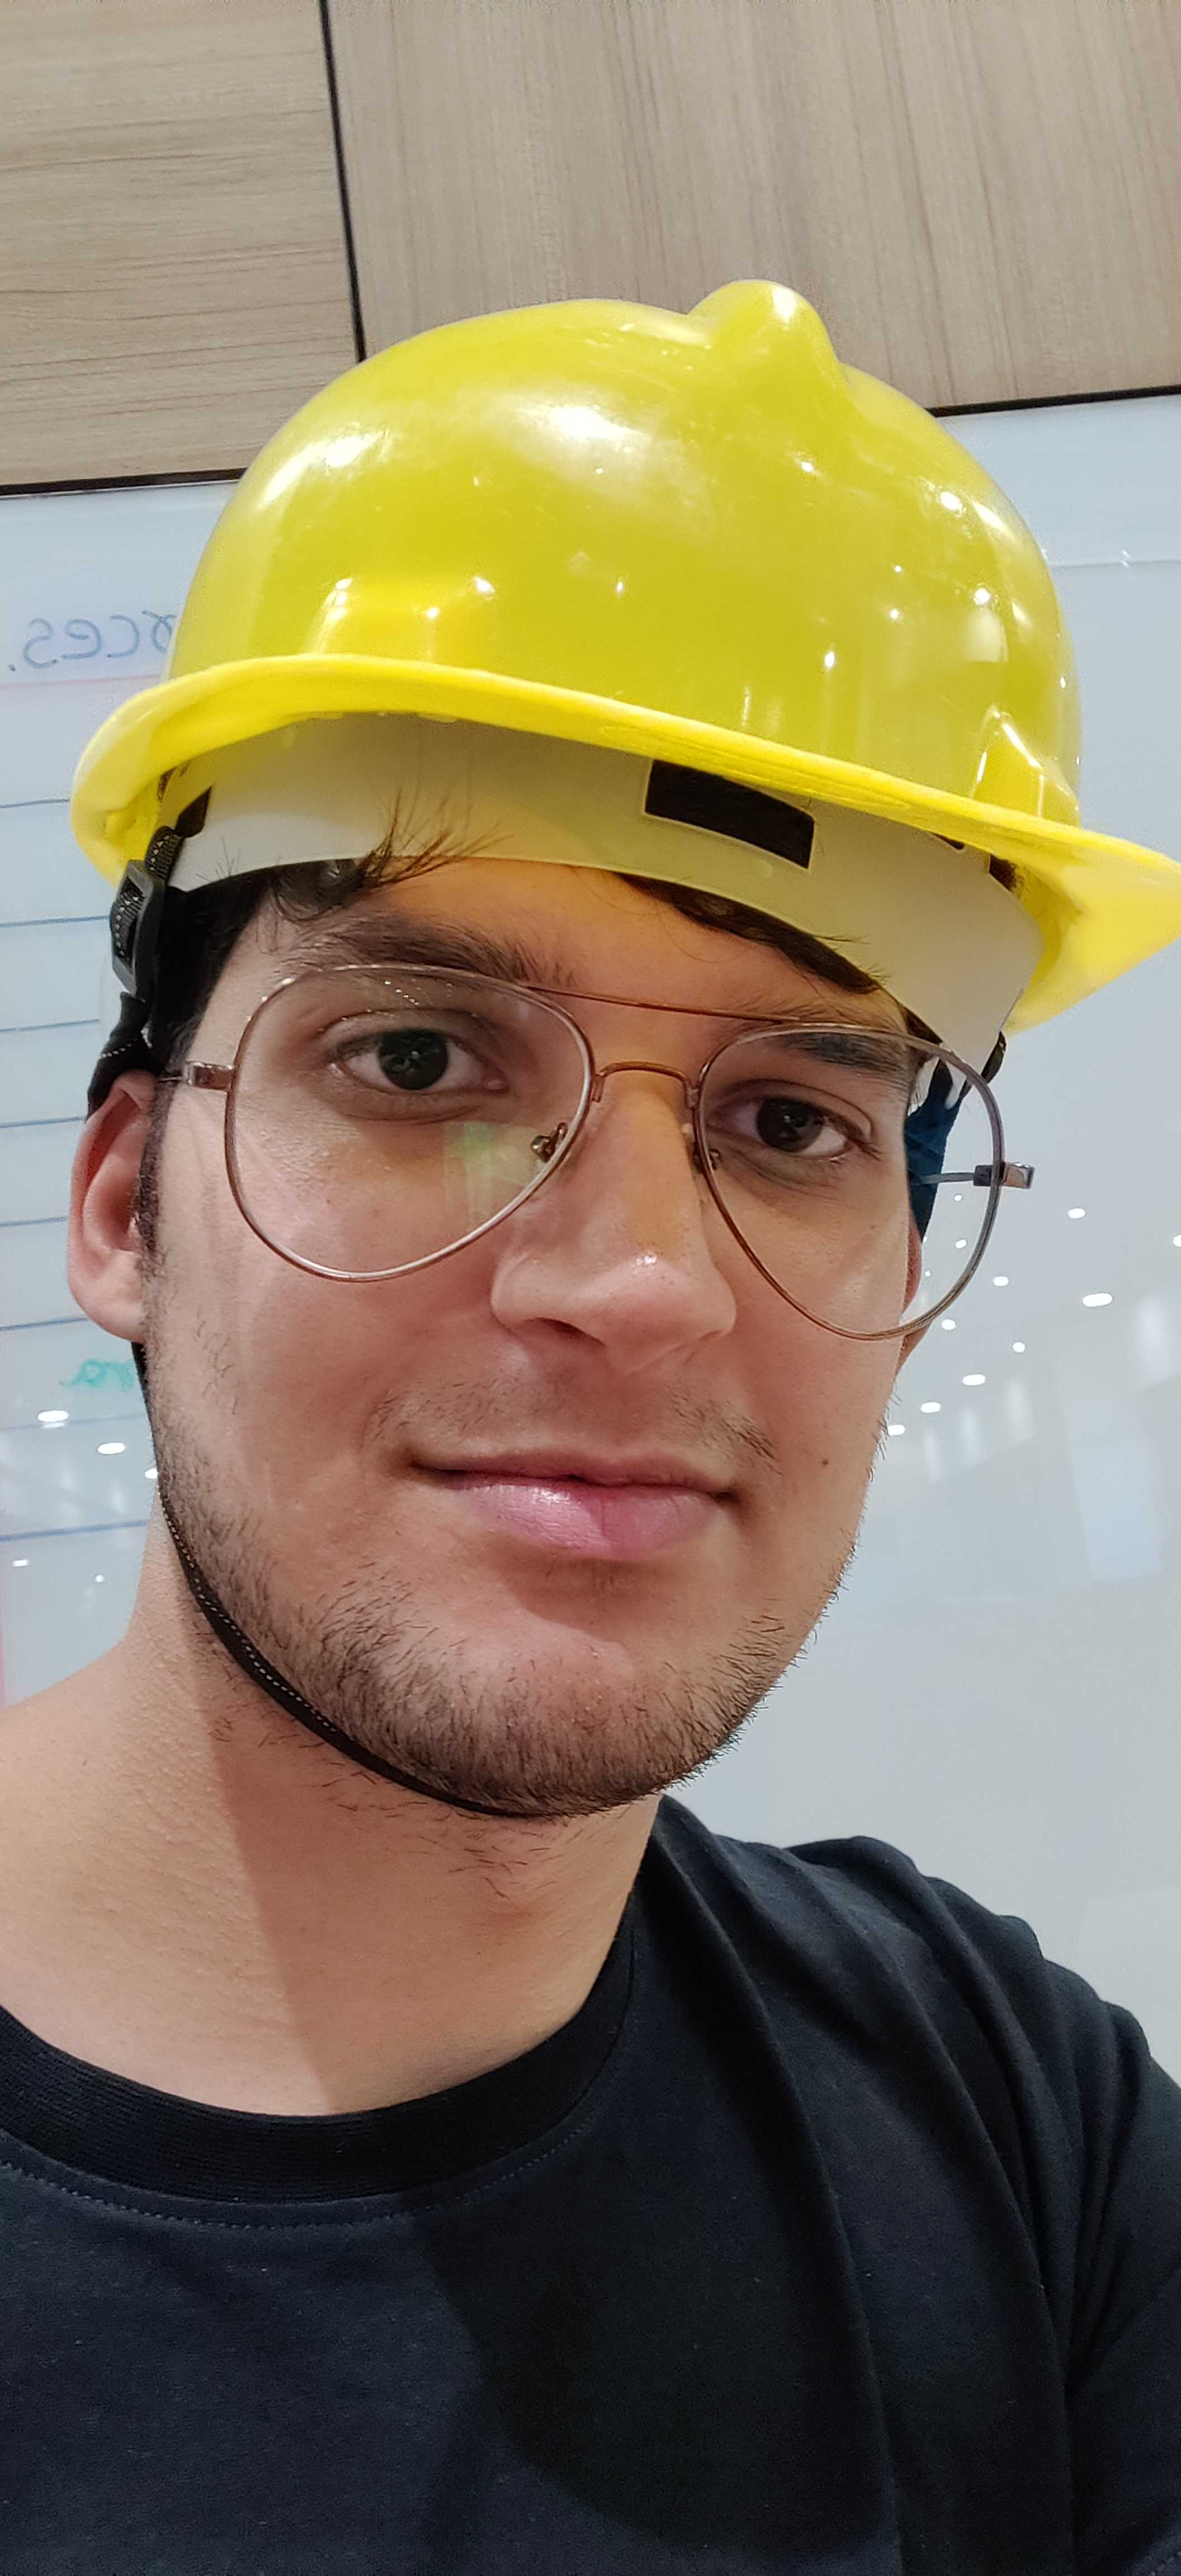Person_wearing_helmet: (58, 235, 1178, 1306)
